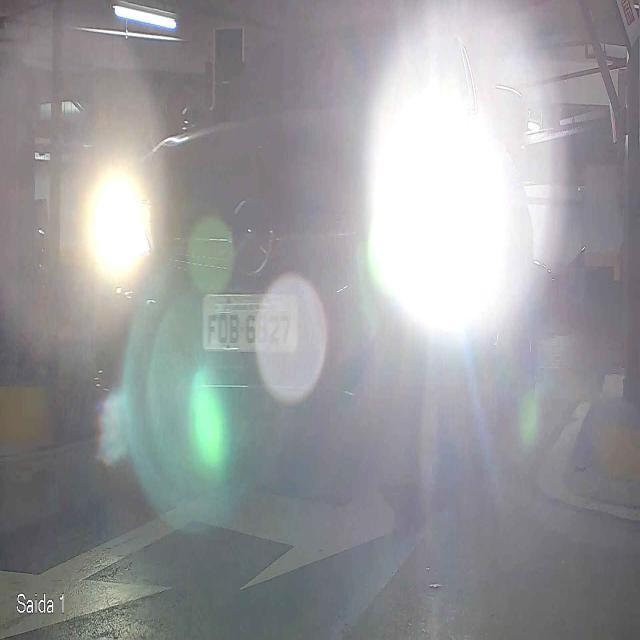old_plate: (200, 292, 302, 354)
